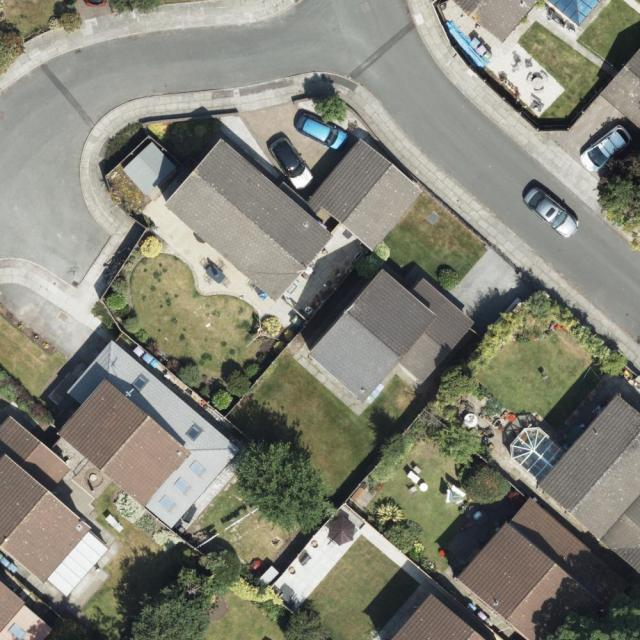roof: (58, 337, 243, 531), (164, 138, 335, 303), (454, 495, 635, 640), (512, 393, 640, 581), (306, 265, 477, 405), (0, 415, 108, 600), (309, 136, 427, 254), (454, 0, 603, 43), (388, 589, 496, 640), (599, 42, 640, 137), (0, 575, 55, 640)
skylight: (510, 426, 569, 484), (548, 0, 609, 29), (190, 456, 209, 481), (7, 618, 29, 639), (129, 372, 151, 392), (185, 420, 204, 441), (174, 473, 191, 494), (159, 494, 175, 512)
